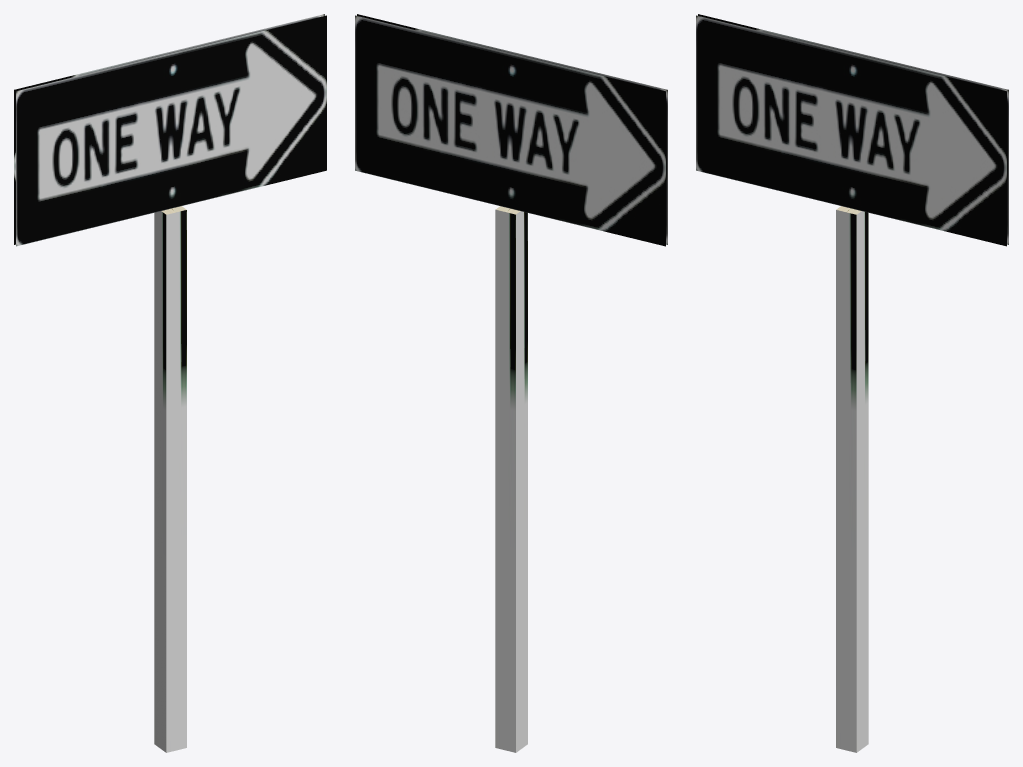
The model's file is sign05.FBX.
3 renders of one model, left to right at view 1: azimuth 30°, elevation 25°; view 2: azimuth 150°, elevation 25°; view 3: azimuth 330°, elevation 25°, orthographic.
Visible parts, largest first — view 1: sign05-oneway; view 2: sign05-oneway; view 3: sign05-oneway.
Part boxes in pixels (x1,y1,x2,y2): sign05-oneway: [14, 14, 326, 752]; sign05-oneway: [355, 14, 667, 752]; sign05-oneway: [696, 14, 1008, 752].
Size of what is drawn, in the model's own units: 0.9066 by 0.06 by 1.93.
